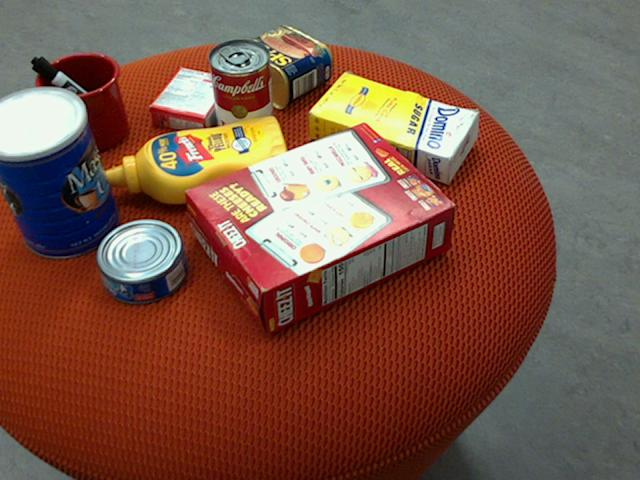cracker_box: (185, 121, 455, 333)
gelatin_box: (149, 66, 236, 135)
large_marker: (31, 57, 125, 134)
master_chef_can: (0, 87, 120, 259)
mug: (23, 53, 128, 153)
mustard_bottle: (106, 116, 291, 204)
potted_meat_can: (229, 26, 333, 110)
sugar_box: (308, 72, 481, 182)
tomato_soup_can: (208, 38, 274, 146)
tuna_fish_can: (96, 220, 189, 305)
